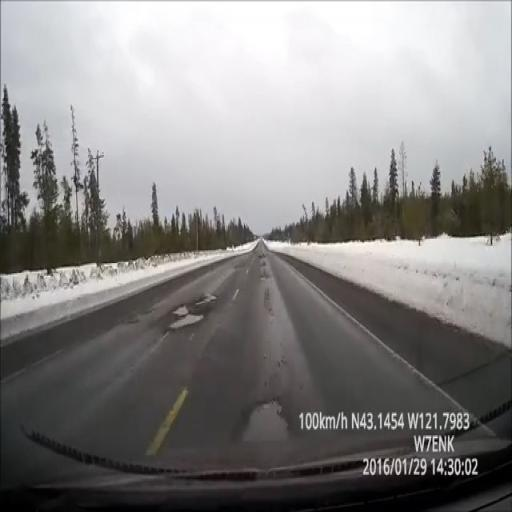Potholes: (242, 398, 288, 441), (167, 293, 217, 329), (171, 313, 202, 329)
